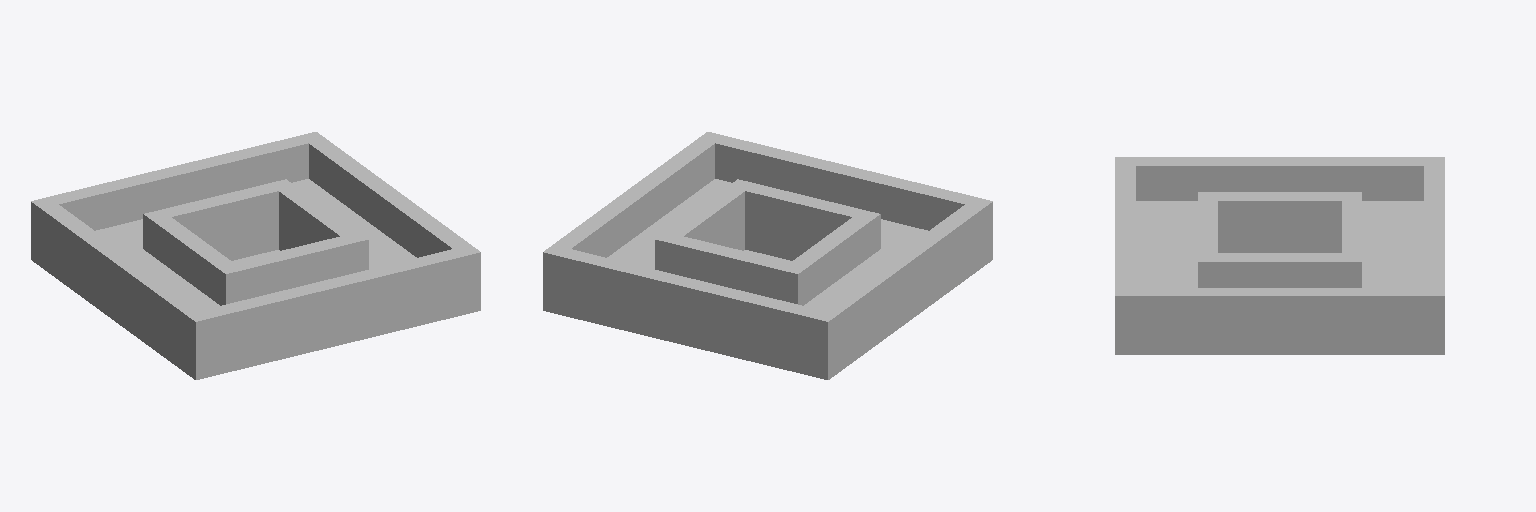
The model's file is test_map_flat.obj.
The picture shows the model from 3 angles: view 1: azimuth 30°, elevation 25°; view 2: azimuth 150°, elevation 25°; view 3: azimuth 270°, elevation 25°; orthographic projection.
Visible parts, largest first — view 1: Plane; view 2: Plane; view 3: Plane.
Boxes of the visible parts, x1=… form: Plane: x1=31, y1=132, x2=480, y2=379; Plane: x1=543, y1=132, x2=992, y2=379; Plane: x1=1115, y1=157, x2=1444, y2=354.
Bounding box in the file's own units: 25.92 × 5.07 × 25.92.